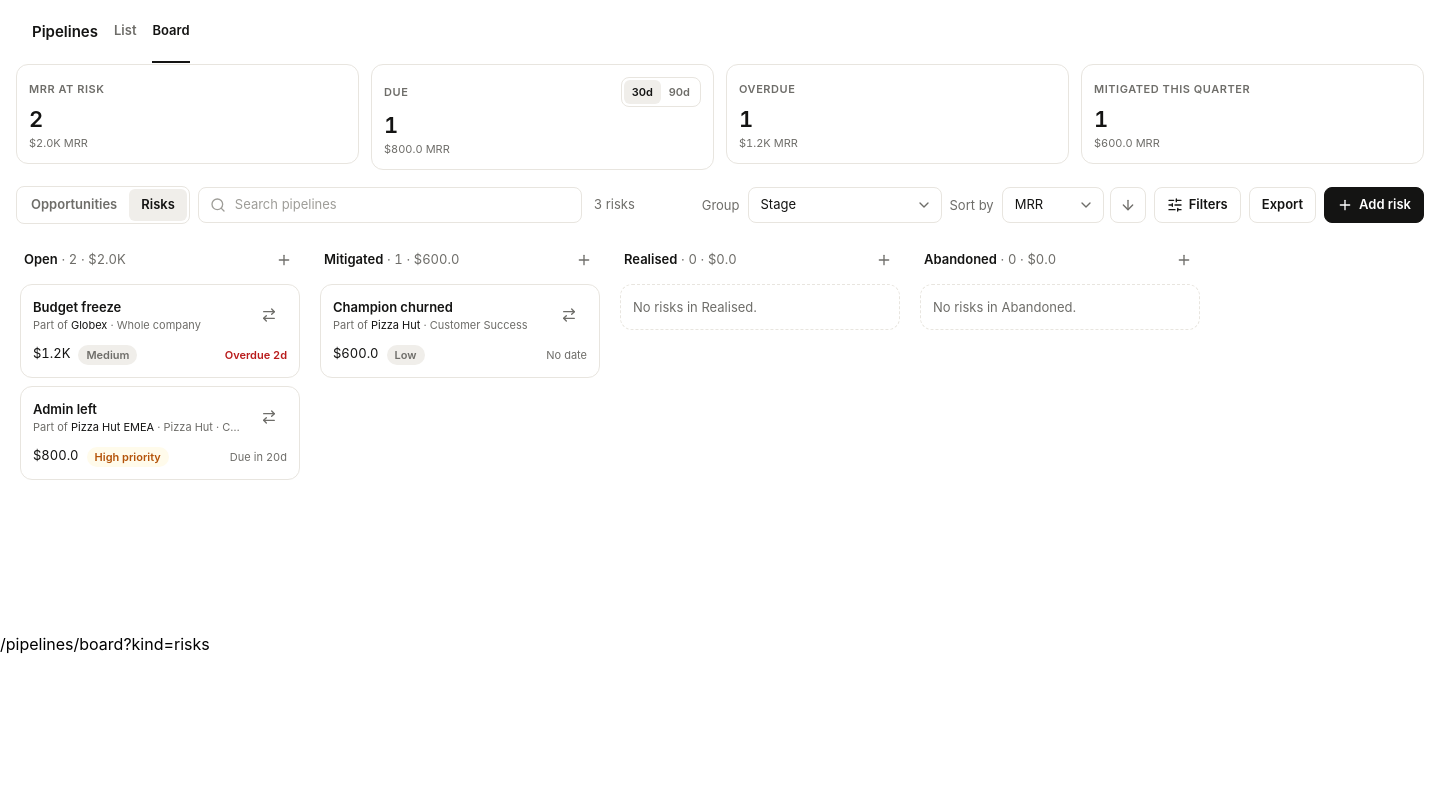
Scenario: Pipelines board › reads risks from ?kind=risks: the risk stages as columns, the risk tiles, and adds to a column's stage
Expected: the button "Champion churned" is shown, 333,297 -> 453,317
Expected: the text "MRR at risk" is shown, 29,81 -> 104,97
Click the button named "Add risk to Mitigated". click: (584, 260)
box: 568,244 -> 600,276
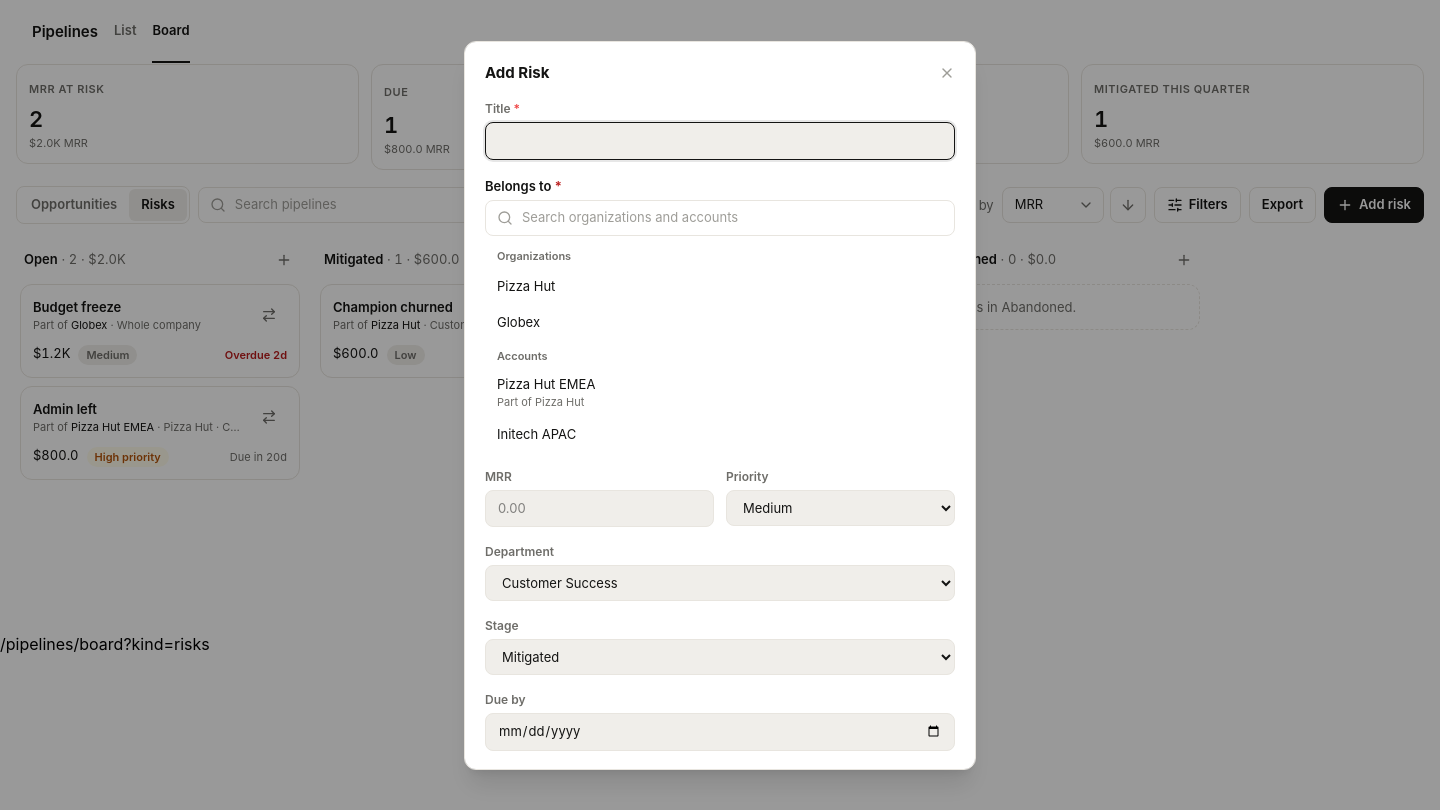
Result: the heading "Add Risk" is shown at 485,62 -> 549,84
Result: the dropdown labelled "Stage" shows "Mitigated" at 485,639 -> 955,675
